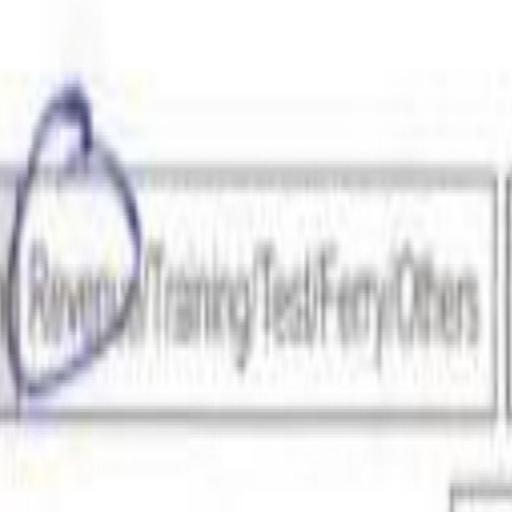check: (17, 72, 143, 446)
